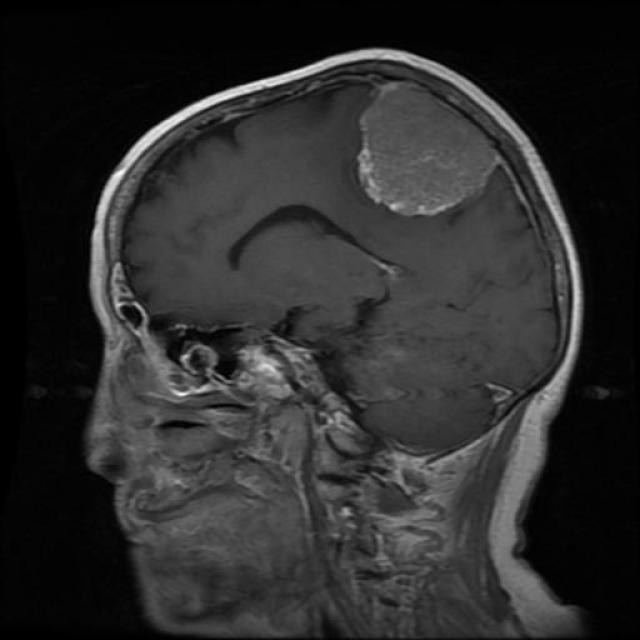meningioma: (359, 85, 499, 216)
